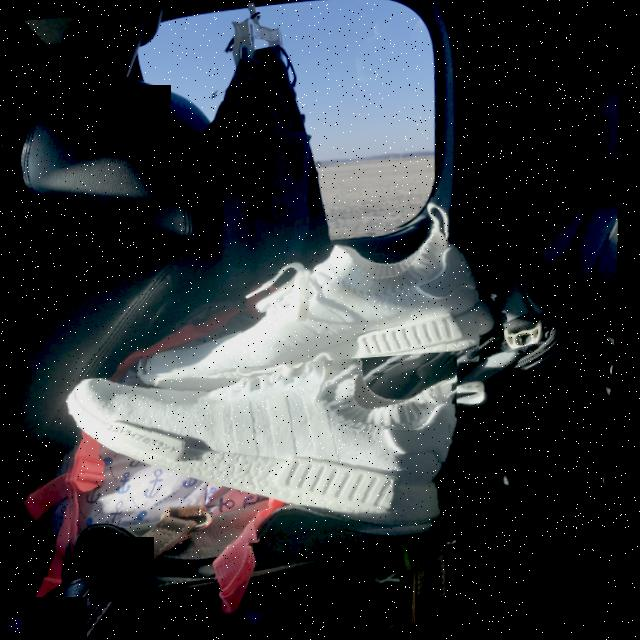shoe: (59, 351, 475, 562), (129, 218, 493, 388)
